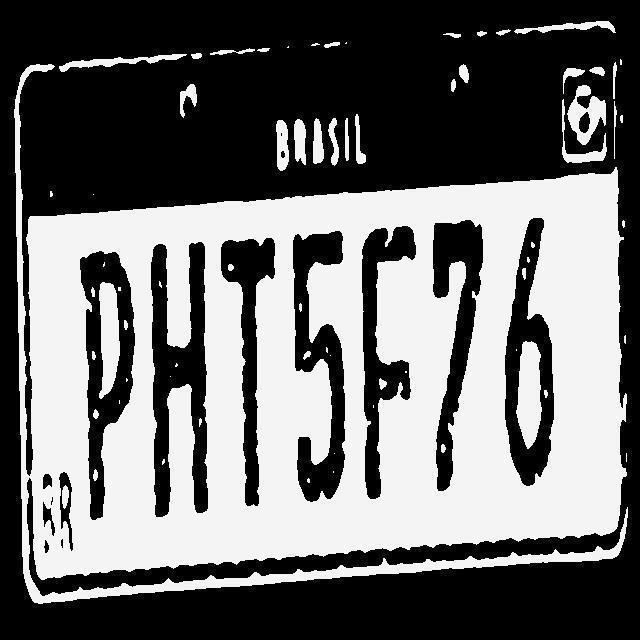5: (284, 219, 347, 519)
6: (500, 210, 567, 504)
7: (426, 216, 496, 509)
f: (354, 218, 421, 519)
h: (138, 230, 212, 538)
p: (70, 243, 132, 540)
t: (210, 234, 280, 528)
